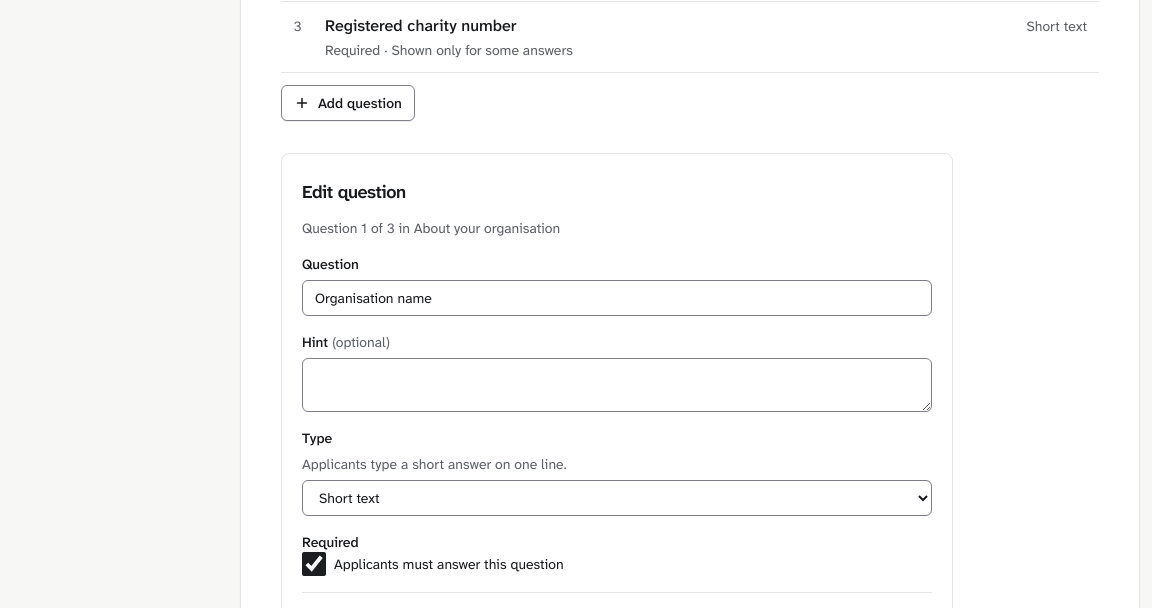
Scenario: saving a draft › says whether the changes are saved, and sends the whole definition when asked
(page scrolled)
Type " in full" into the field labelled "Question". click: point(617, 298)
box: [302,280,932,316]
(page scrolled)
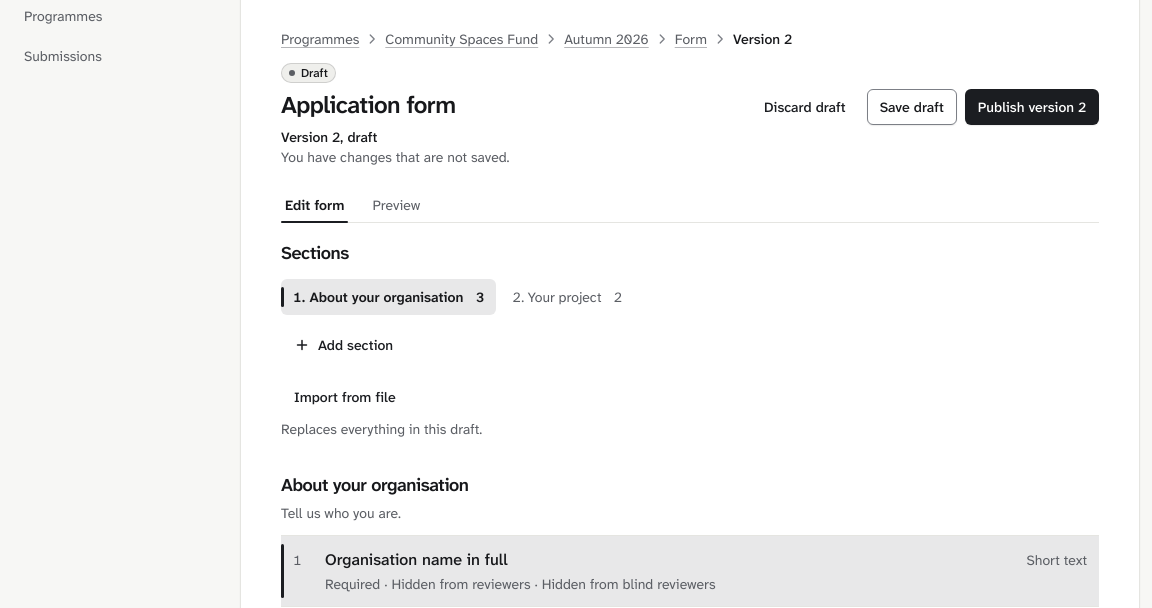
Expected: the text "You have changes that are not saved." is shown, [281,148,510,166]
Click the button "Save draft". click: point(912, 107)
box: [867,89,957,125]
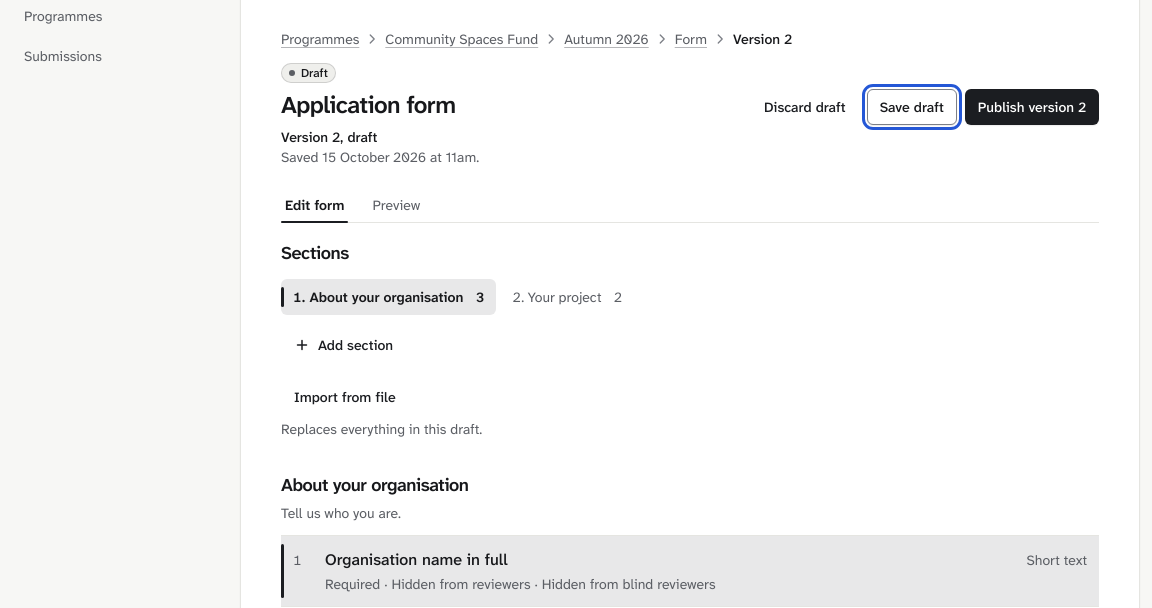
Expected: the text "Saved 15 October 2026 at 11am." is shown, [281,148,479,166]
